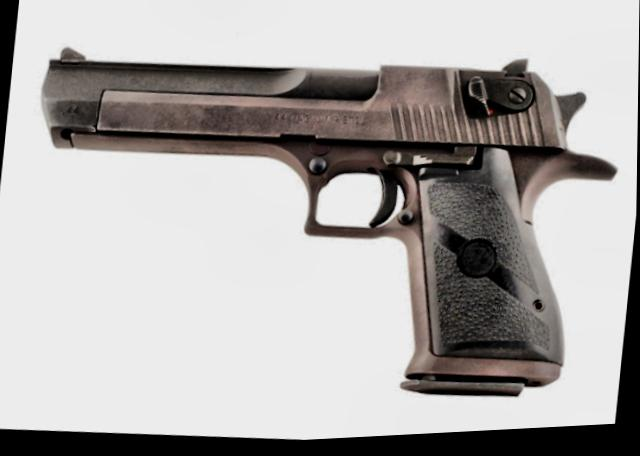pistol: (0, 22, 630, 440)
